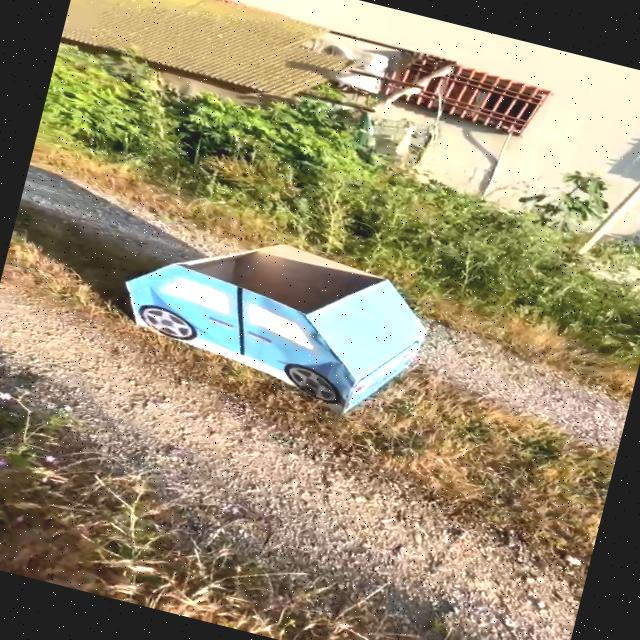blue_car: (49, 174, 502, 458)
